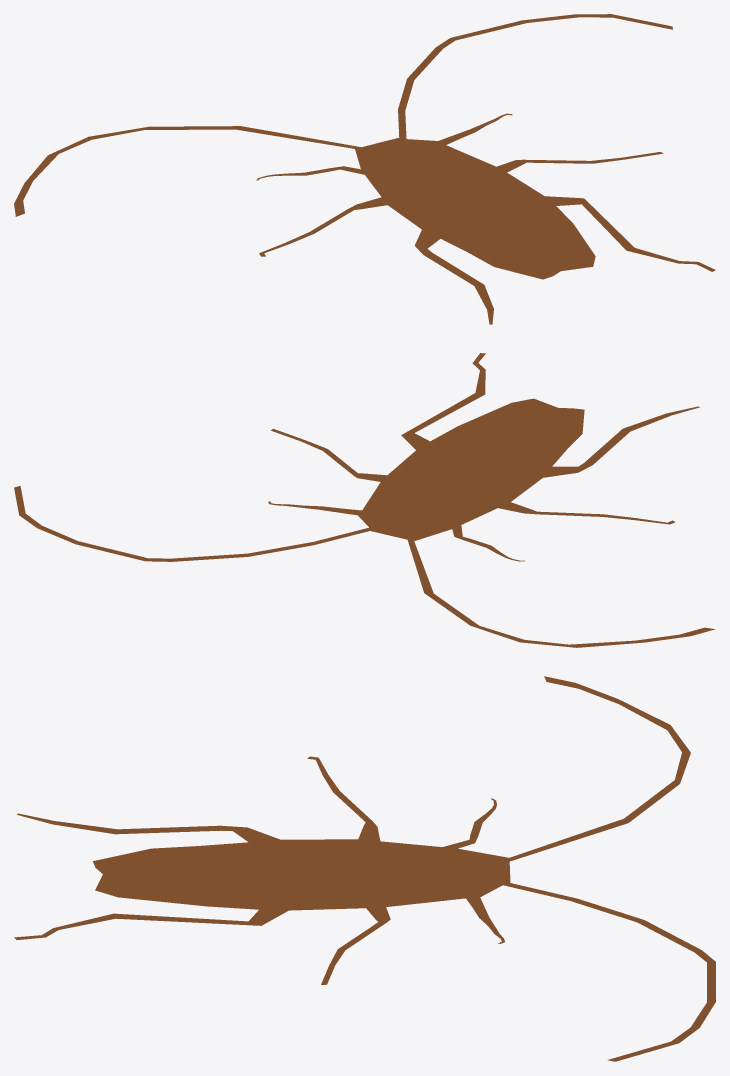
Rendered from lakukarachas.fbx.
The picture shows the model from 3 angles, top to bottom: view 1: azimuth 30°, elevation 25°; view 2: azimuth 150°, elevation 25°; view 3: azimuth 270°, elevation 25°; orthographic projection. The views are drawn at different scales.
Parts seen in each view (by area): view 1: Plane; view 2: Plane; view 3: Plane.
Part boxes in pixels (x1=…): Plane: x1=14, y1=14, x2=715, y2=324; Plane: x1=14, y1=353, x2=715, y2=647; Plane: x1=14, y1=676, x2=715, y2=1061.
Bounding box in the file's own units: 128 × 0.0693 × 98.2.
